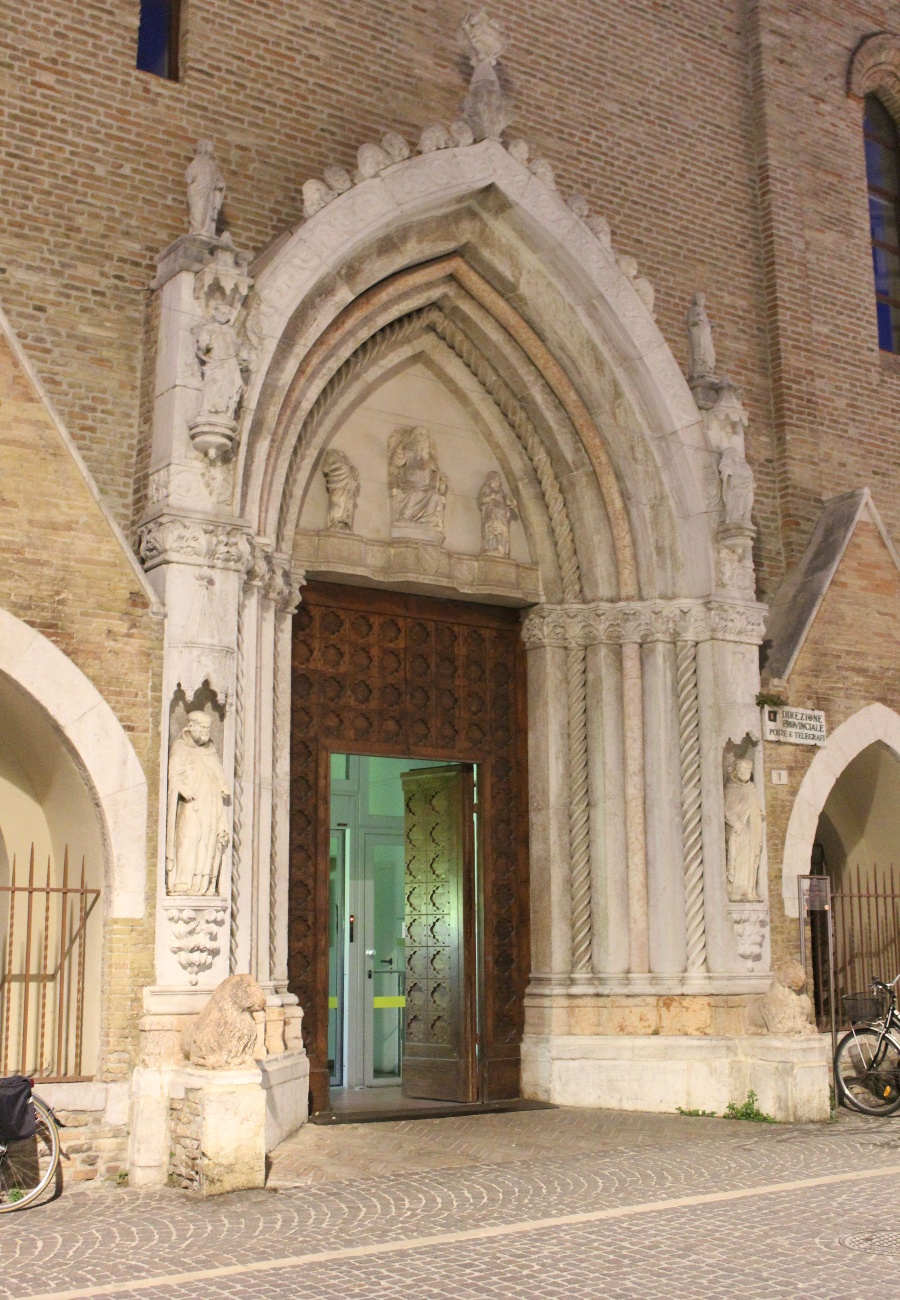Portale San Domenico: (124, 7, 833, 1192)
